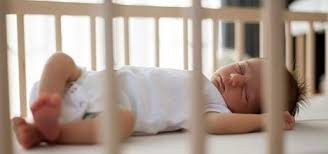baby: (13, 53, 108, 147)
crib: (0, 0, 328, 154)
